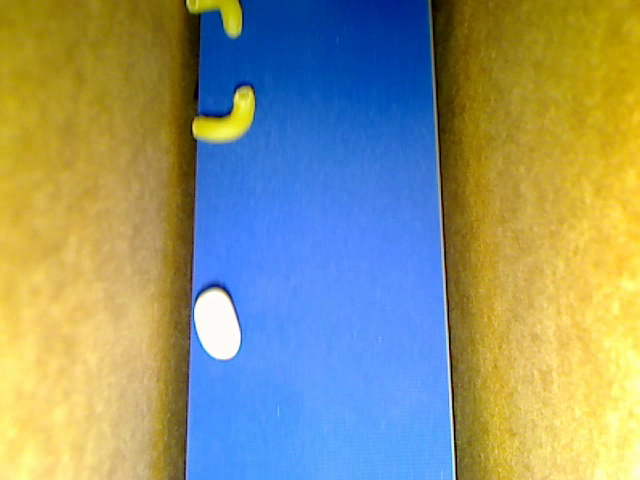elbow: (192, 84, 256, 142), (185, 1, 243, 39)
